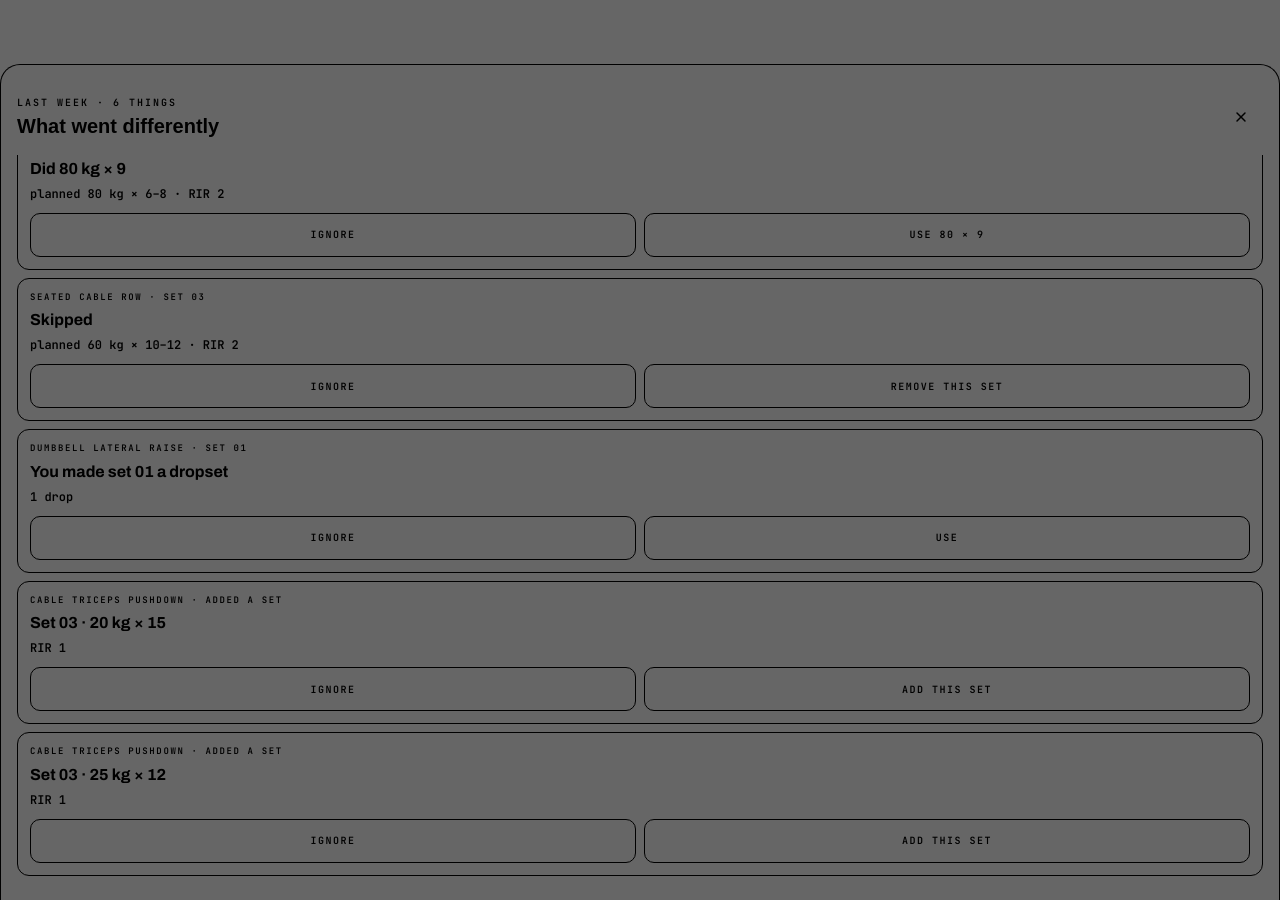
W: each button writes what the board says and the item is gone for good › W (195 (a)): two added sets of one exercise that share a number on two cards are two items, and deciding one leaves the other
This screenshot has width=1280, height=900.
(page scrolled)
Click the button "IGNORE" below "Set 03 · 20 kg × 15" at (333, 689), box [30, 667, 636, 711]
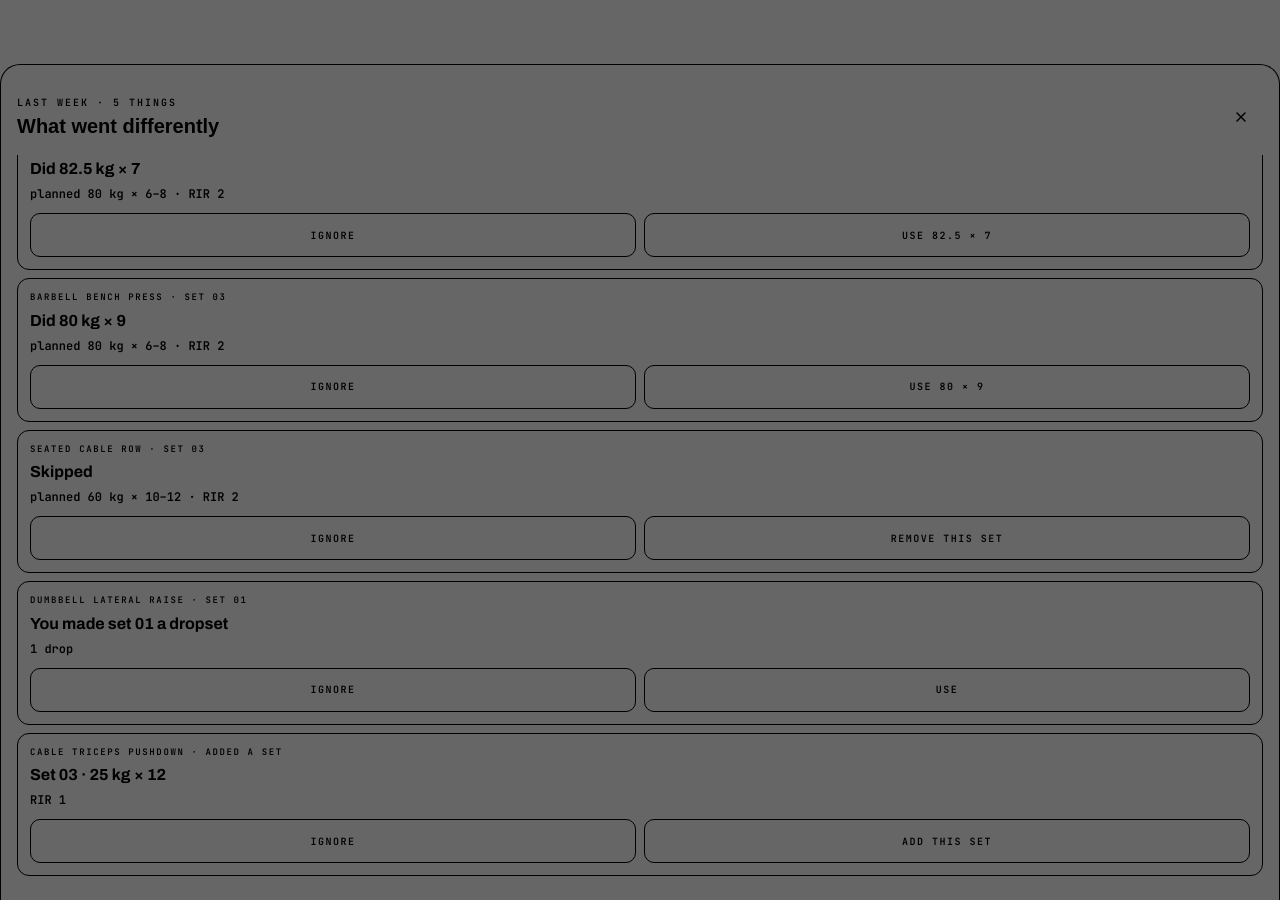
Now the dialog shows "LAST WEEK · 5 THINGS", box [17, 96, 177, 109]
